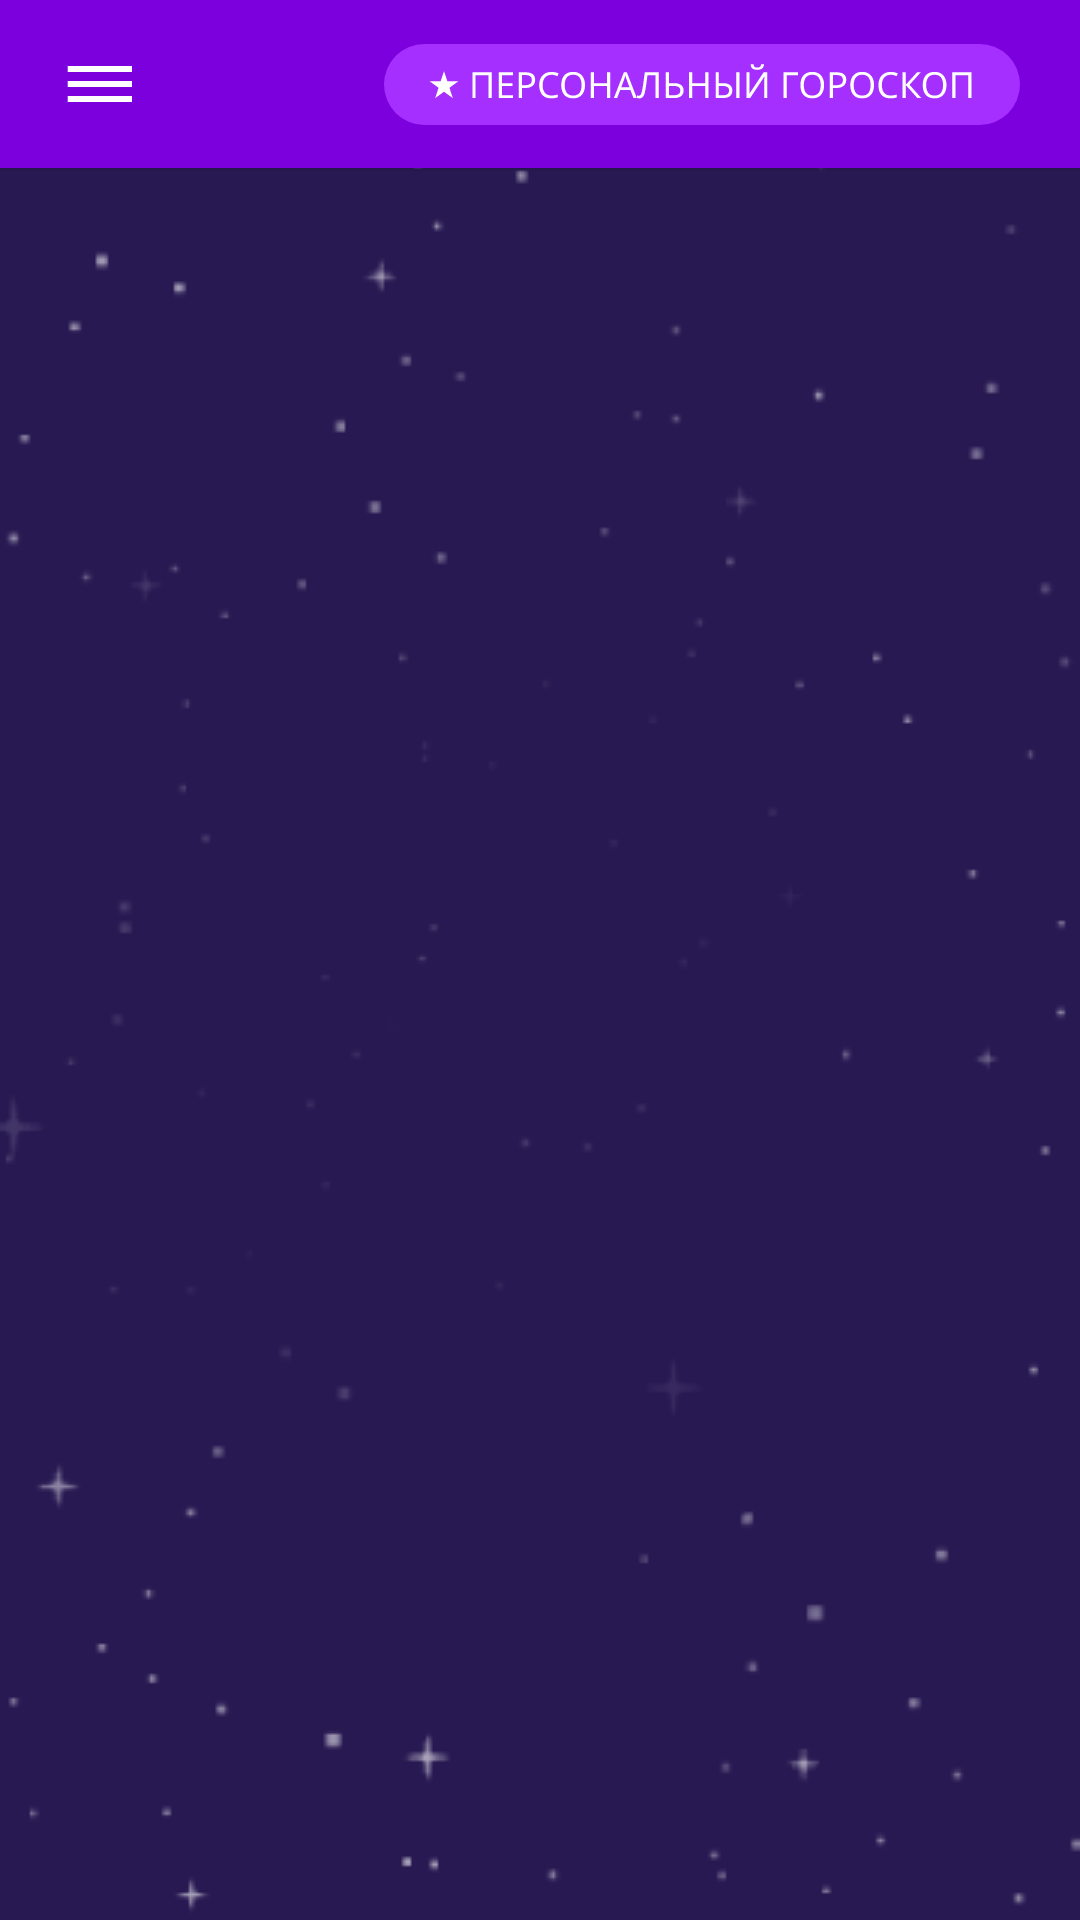

Screen size 1080 × 1920. Icon name, then its box in pixels as (x1, y1, x2, y2):
menu: (67, 66, 132, 102)
